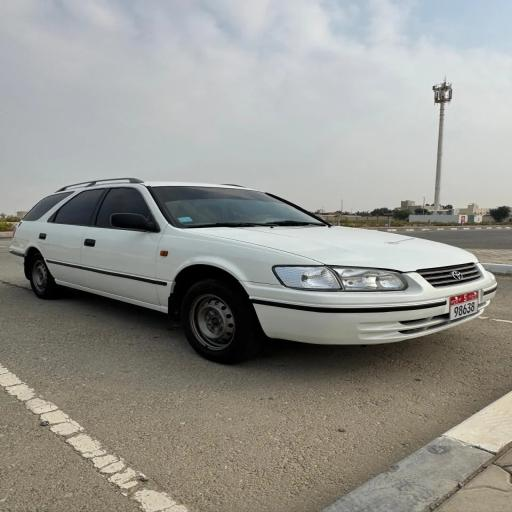license-plates: (448, 291, 478, 322)
